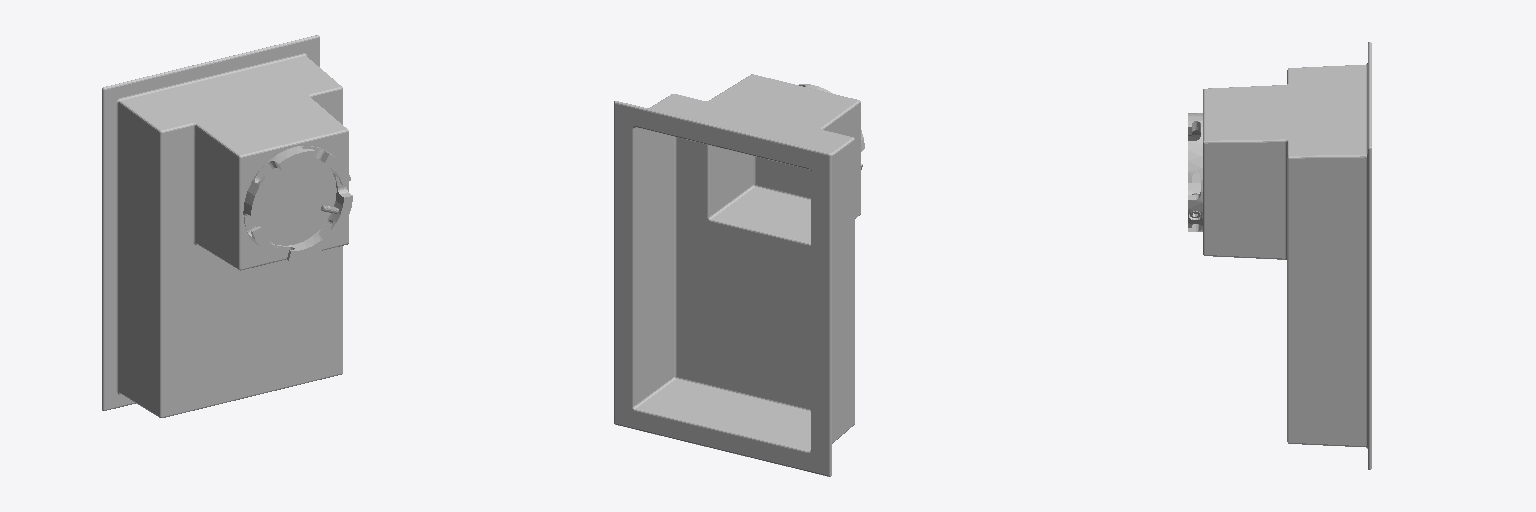
3 views of the same model, side by side, from view 1: azimuth 30°, elevation 25°; view 2: azimuth 150°, elevation 25°; view 3: azimuth 270°, elevation 25° (orthographic).
Visible parts, largest first — view 1: Base_V7; view 2: Base_V7; view 3: Base_V7.
Boxes of the visible parts, x1=… form: Base_V7: x1=102, y1=35, x2=352, y2=417; Base_V7: x1=614, y1=74, x2=864, y2=476; Base_V7: x1=1188, y1=42, x2=1371, y2=469.
Size of the model in its own units: 11.88 by 16.88 by 8.7.